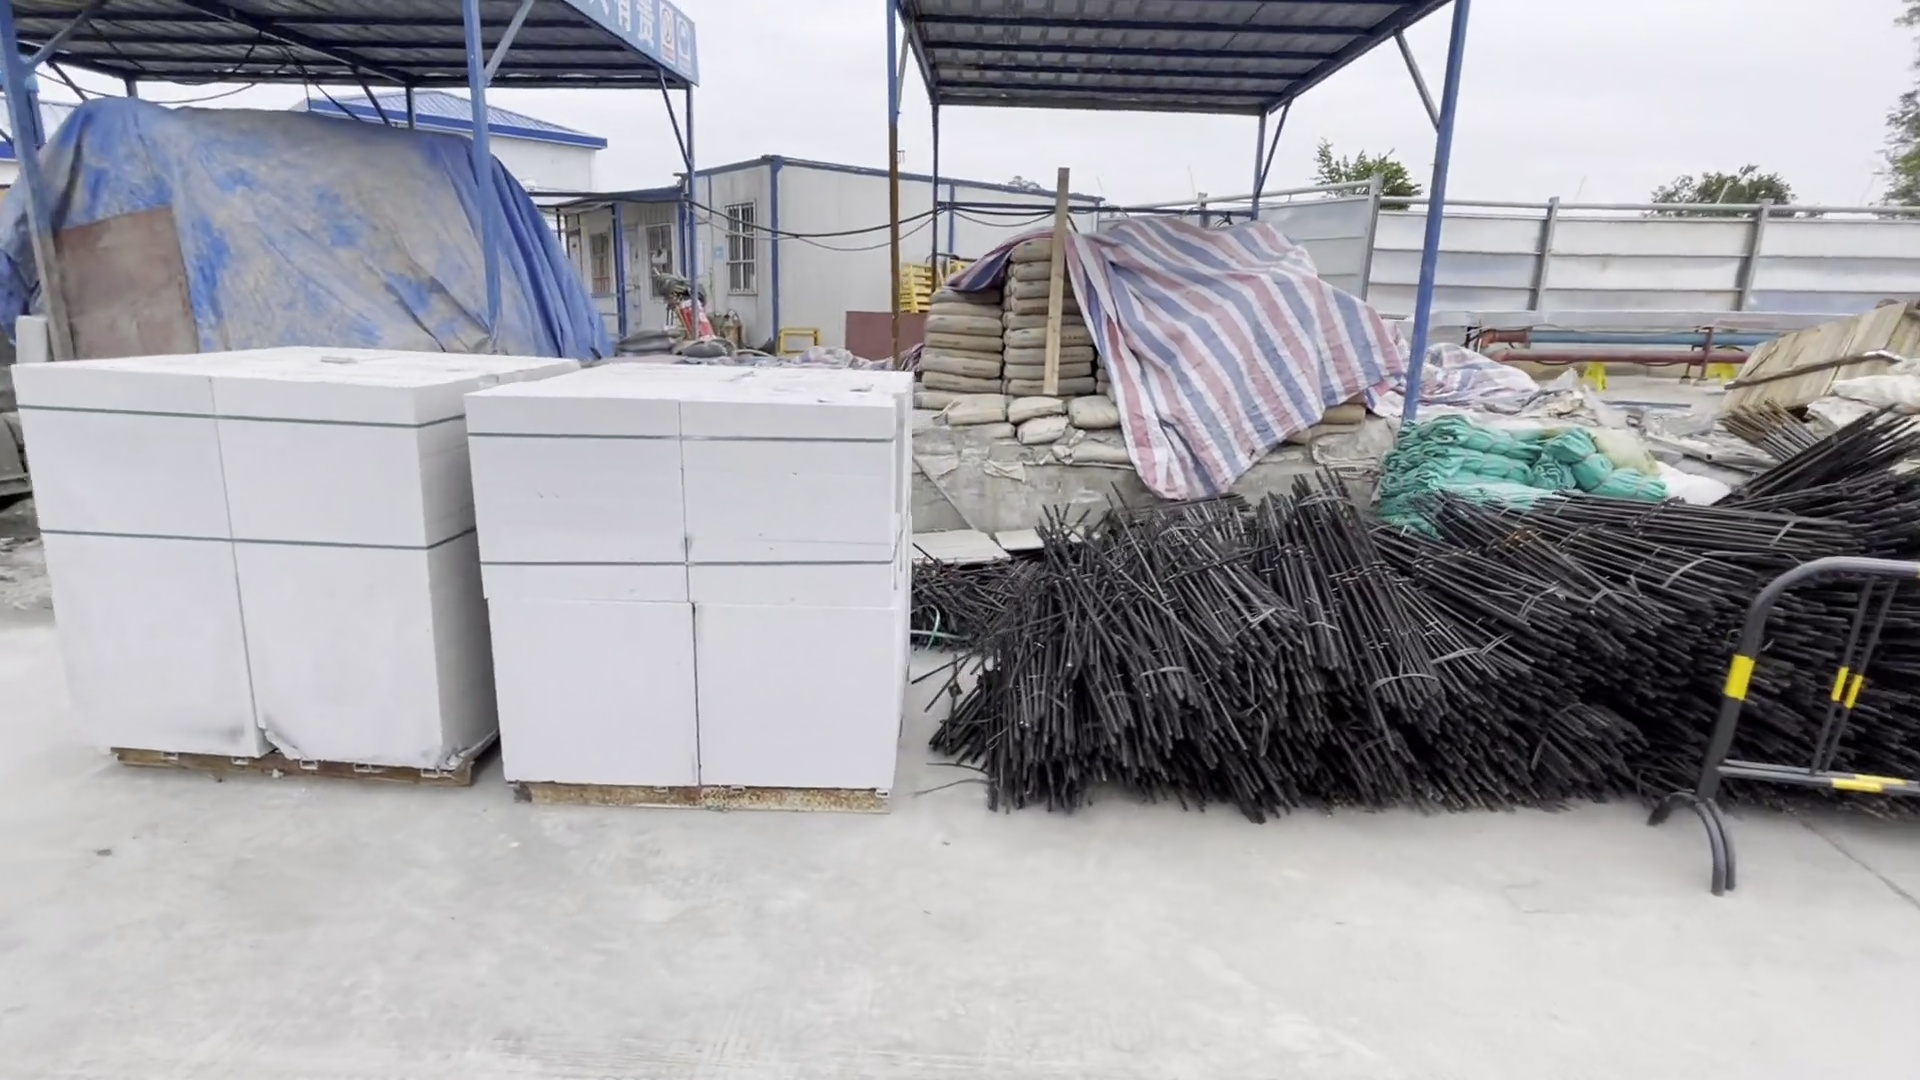brick: (16, 332, 531, 793), (465, 349, 924, 822)
